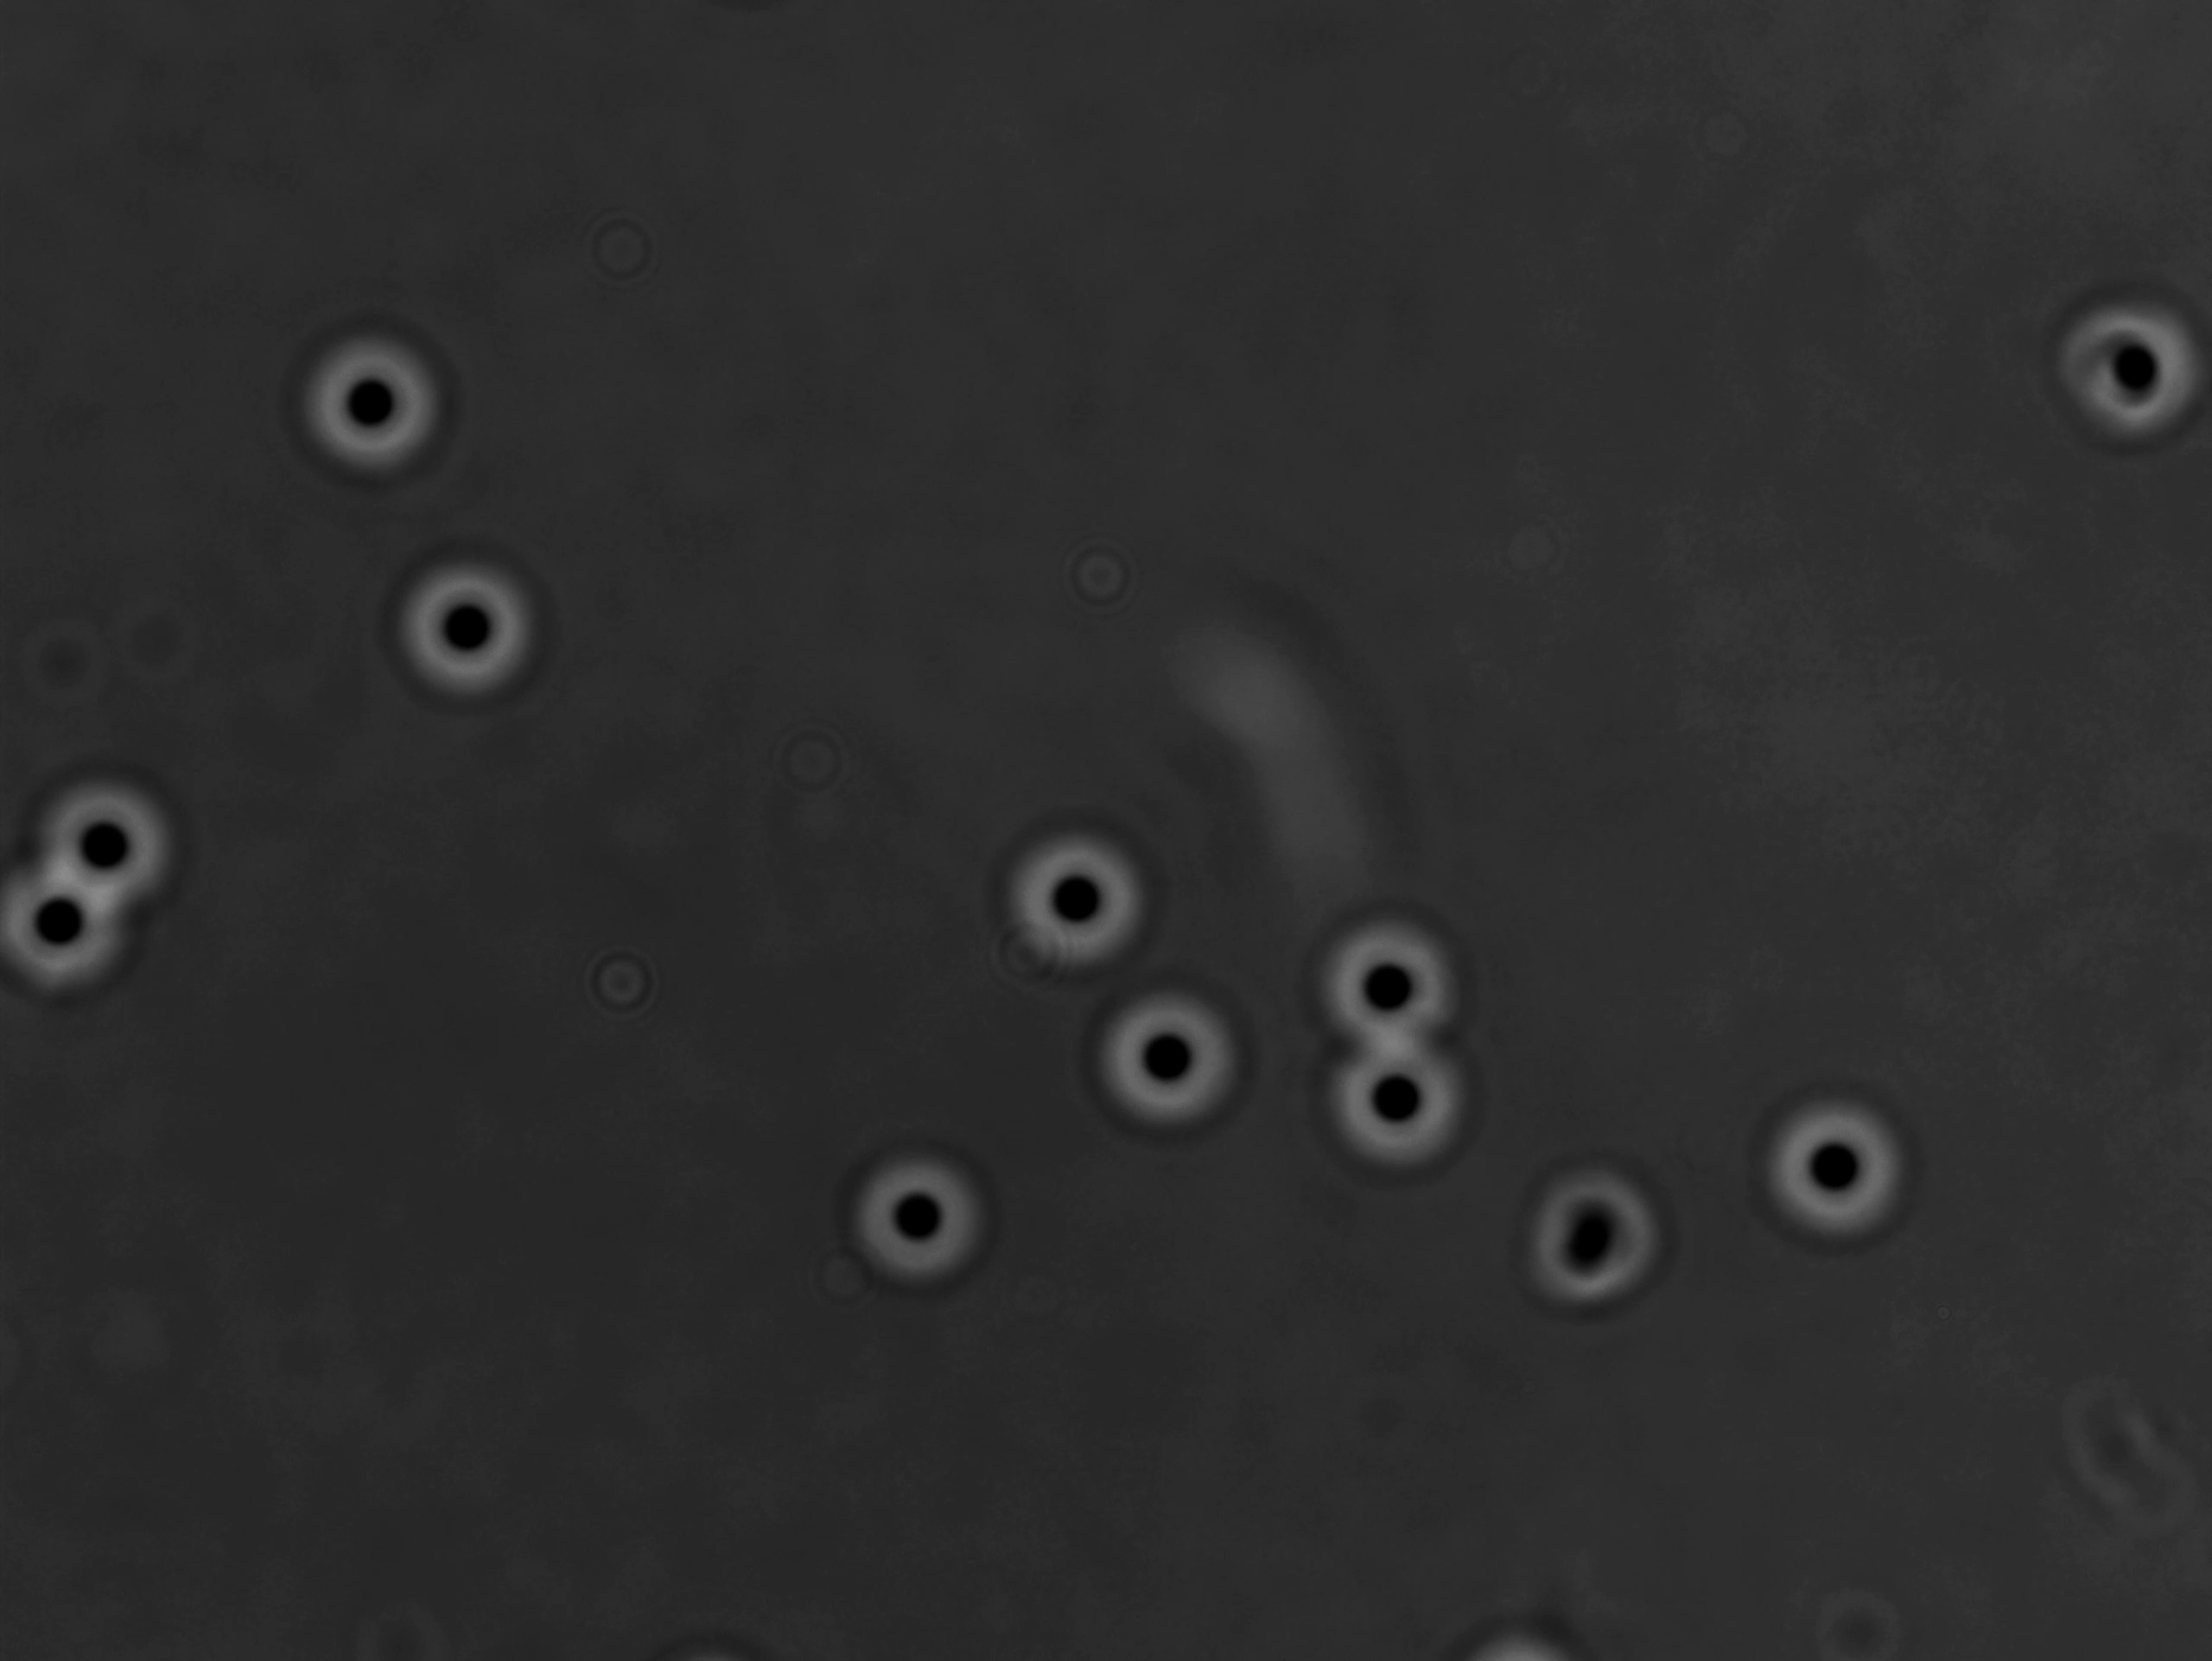depth:-40: (1324, 1017, 1485, 1181), (993, 822, 1160, 977), (288, 319, 448, 478), (1748, 1089, 1910, 1244), (850, 1139, 1003, 1298), (1315, 904, 1469, 1059), (1092, 984, 1242, 1143), (393, 558, 546, 710), (35, 775, 183, 913), (3, 878, 136, 1010)
